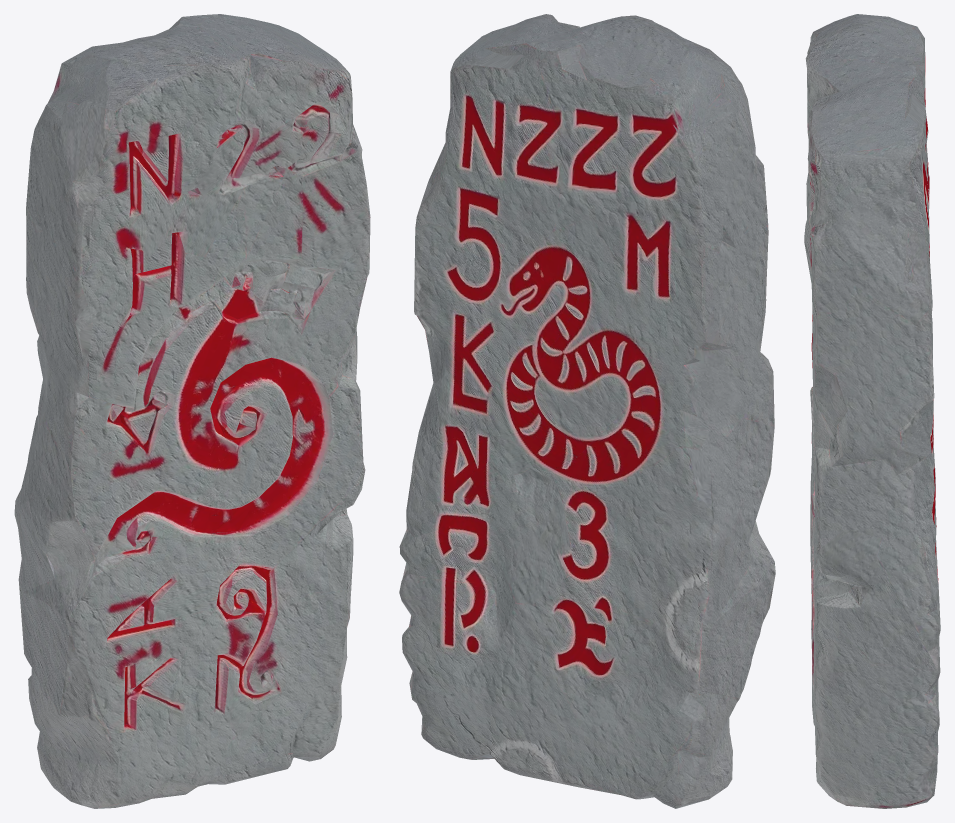
Rendered from rune-stone.glb.
3 renders of one model, left to right at view 1: azimuth 30°, elevation 25°; view 2: azimuth 150°, elevation 25°; view 3: azimuth 270°, elevation 25°, orthographic. The views are drawn at different scales.
Bounding box in the file's own units: 0.8498 × 1.9 × 0.3347.
1 material, 1 textured.
